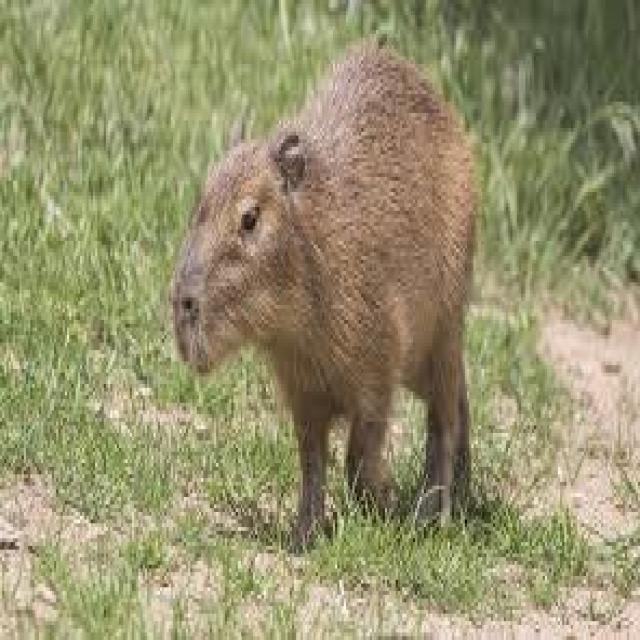capy: (173, 37, 478, 547)
